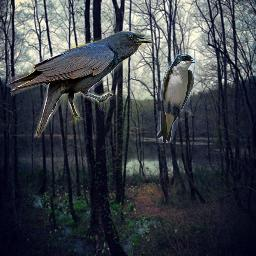Crow: (6, 31, 153, 138)
Swallow: (157, 54, 196, 143)
